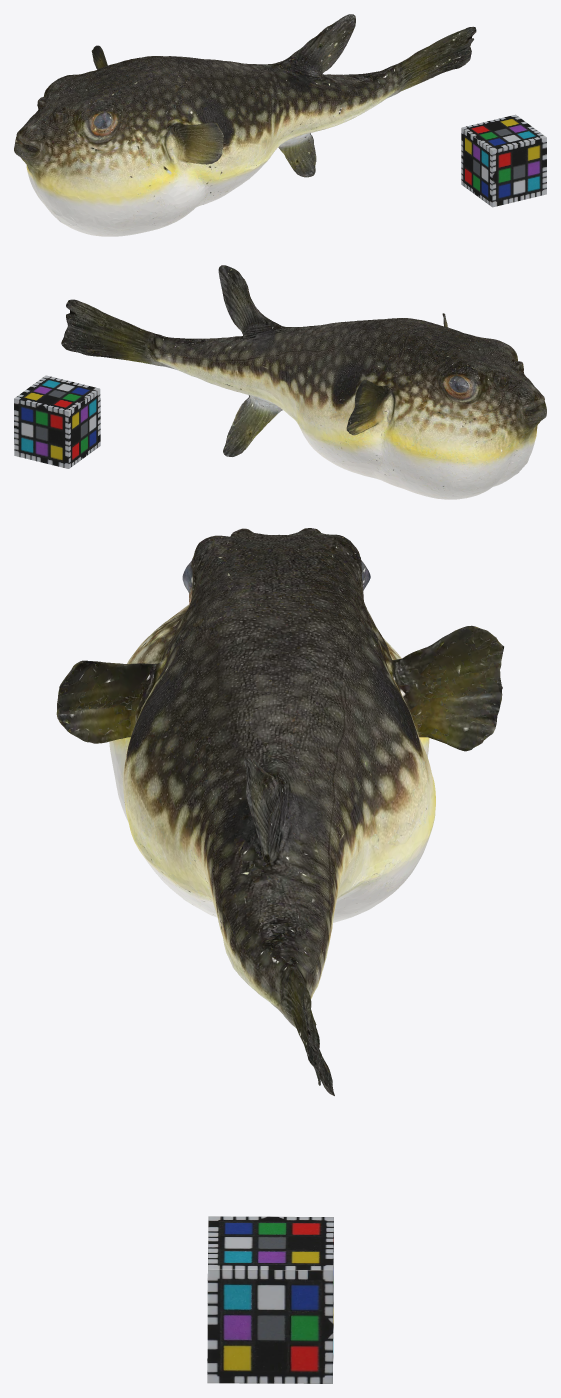
File: scan_puffer_vermic.glb
3 views of the same model, one above another, from view 1: azimuth 30°, elevation 25°; view 2: azimuth 150°, elevation 25°; view 3: azimuth 270°, elevation 25° (orthographic). The views are drawn at different scales.
Visible parts, largest first — view 1: Object_6, Object_4; view 2: Object_6, Object_4; view 3: Object_6, Object_4.
Boxes of the visible parts, left/top/right/bottom form: Object_6: left=14, top=14, right=476, bottom=236; Object_4: left=461, top=114, right=546, bottom=207; Object_6: left=61, top=265, right=546, bottom=499; Object_4: left=14, top=375, right=100, bottom=468; Object_6: left=56, top=528, right=503, bottom=1095; Object_4: left=207, top=1216, right=333, bottom=1383.
Size of the model in its own units: 6.79 by 2.77 by 2.57.
2 materials, 2 textured.
